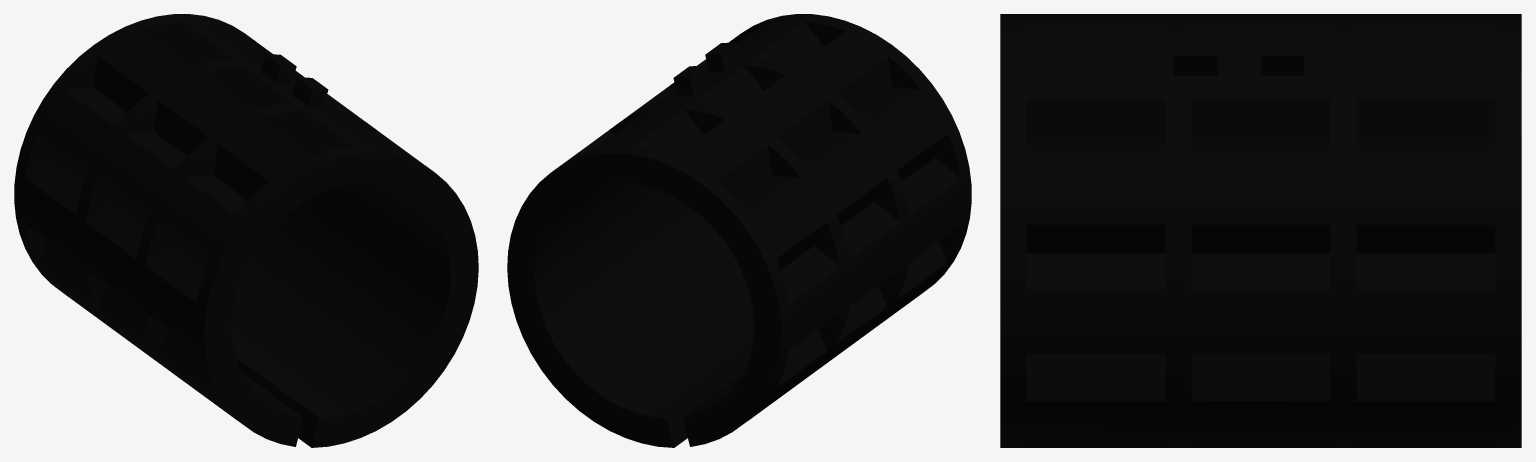
3 views of the same model, side by side, from view 1: azimuth 30°, elevation 25°; view 2: azimuth 150°, elevation 25°; view 3: azimuth 270°, elevation 25° (orthographic). The views are drawn at different scales.
Visible parts, largest first — view 1: r; view 2: r; view 3: r.
Boxes of the visible parts, box(x1,y1,x2,y2) form: r: box(14, 14, 478, 447); r: box(507, 14, 971, 447); r: box(1000, 14, 1521, 447).
Size of the model in its own units: 35.13 by 36.78 by 42.18.
1 material, 1 textured.
